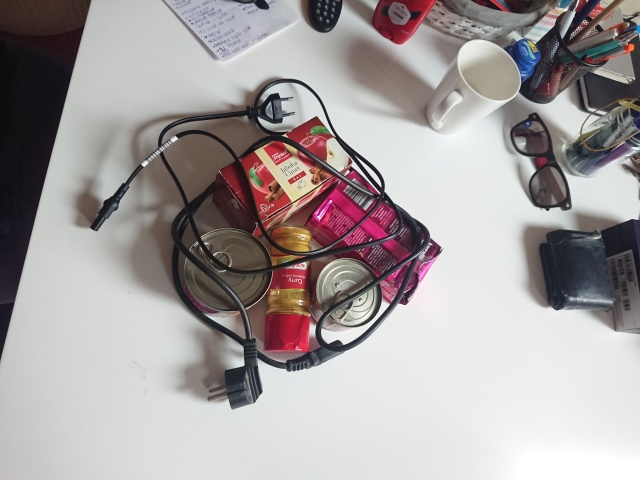Barcaffe Classic Original 225g: (300, 169, 447, 309)
Franck Apple Cinnamon Tea 60g: (211, 114, 356, 247)
Giana Tuna Salad Mexico 185g: (181, 225, 275, 320)
Kotanyi Curry Spices Mix 70g: (261, 220, 314, 355)
Podravka Luncheon Meat 150g: (306, 256, 384, 334)
